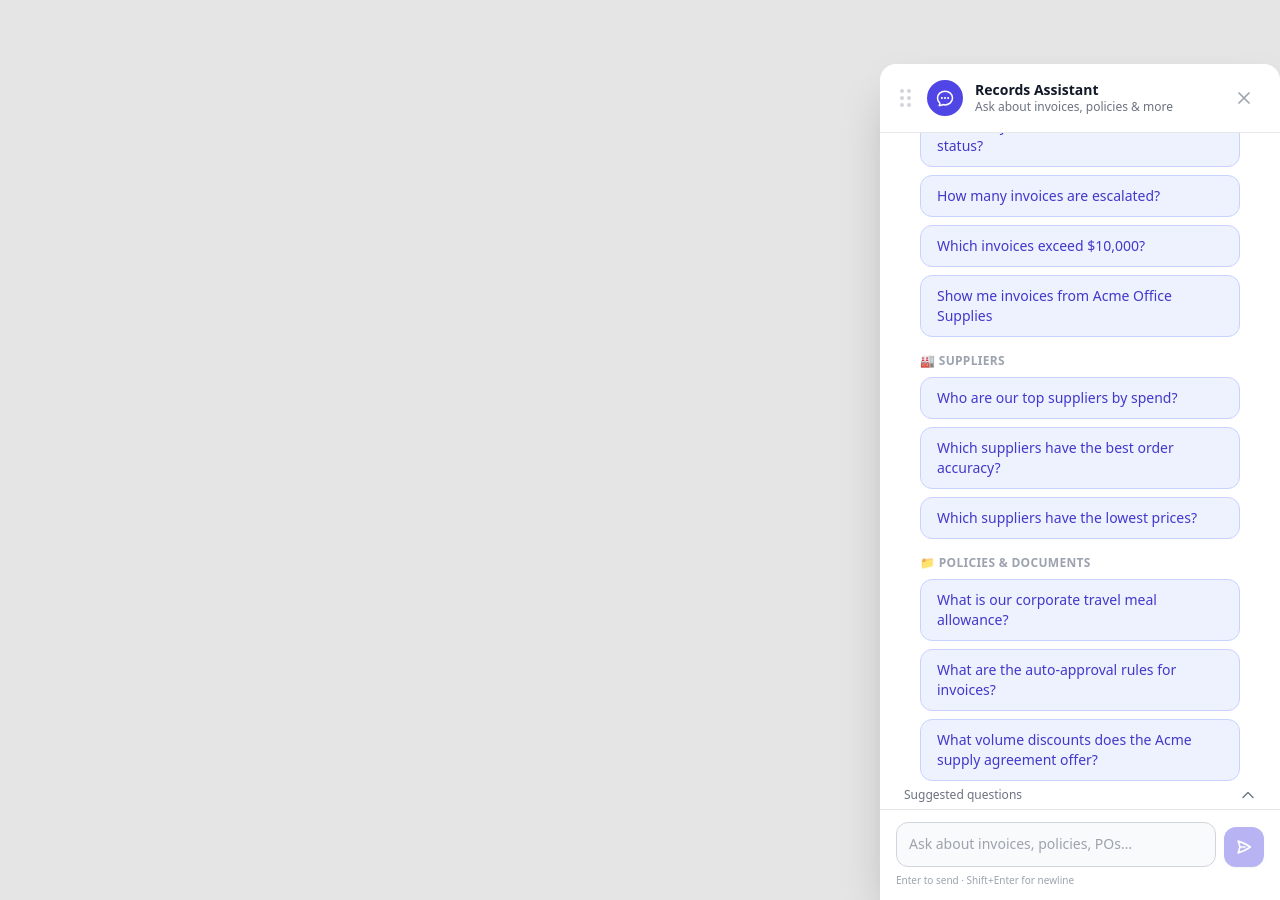
ChatDrawer › sends a question and renders the streamed assistant answer with a citation
(page scrolled)
Type "How many escalated?" into the text box with placeholder "Ask about invoices, policies, POs…" at [1056, 845], box left=896, top=822, right=1216, bottom=867
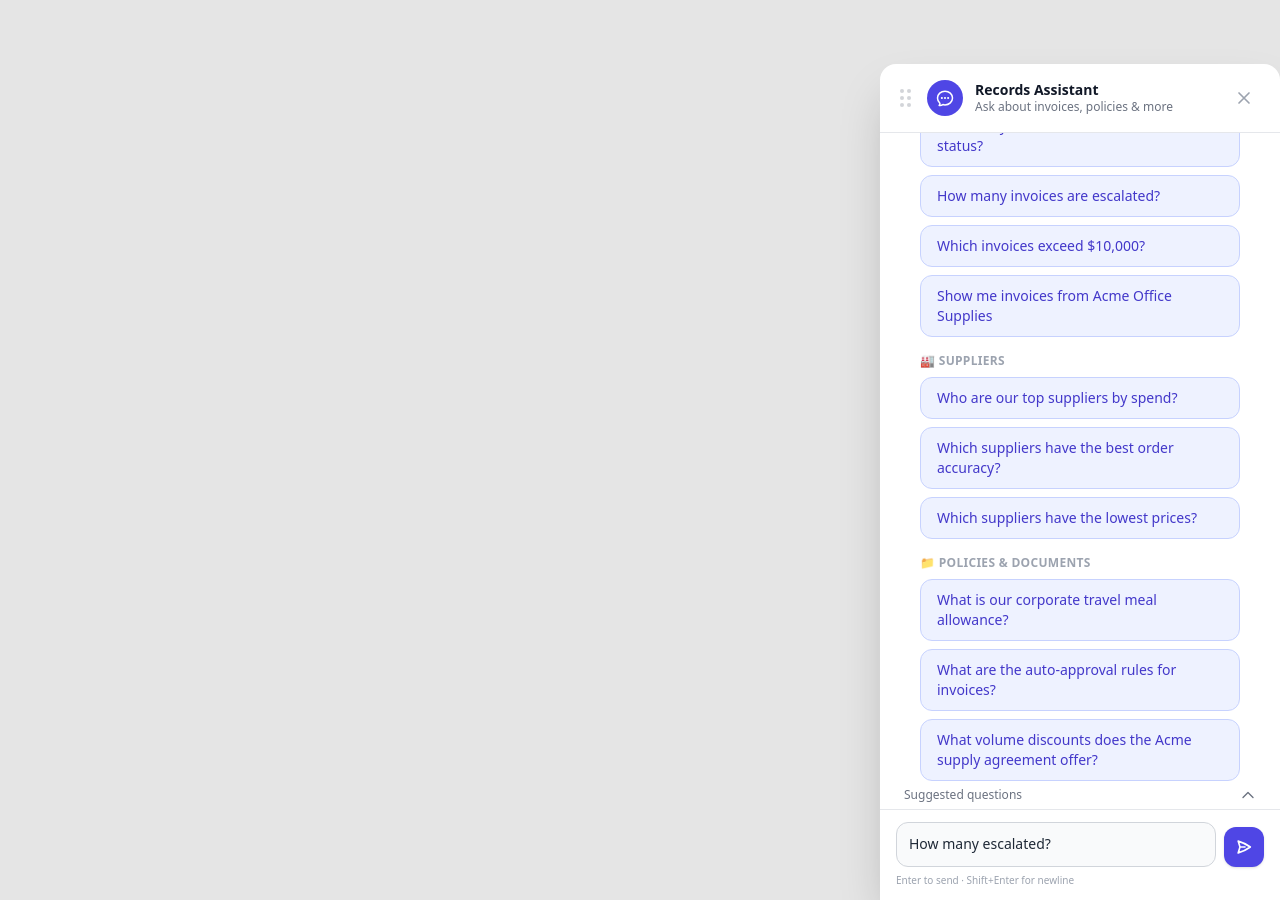
Click the button named "send" at [1244, 847], box left=1224, top=827, right=1264, bottom=867
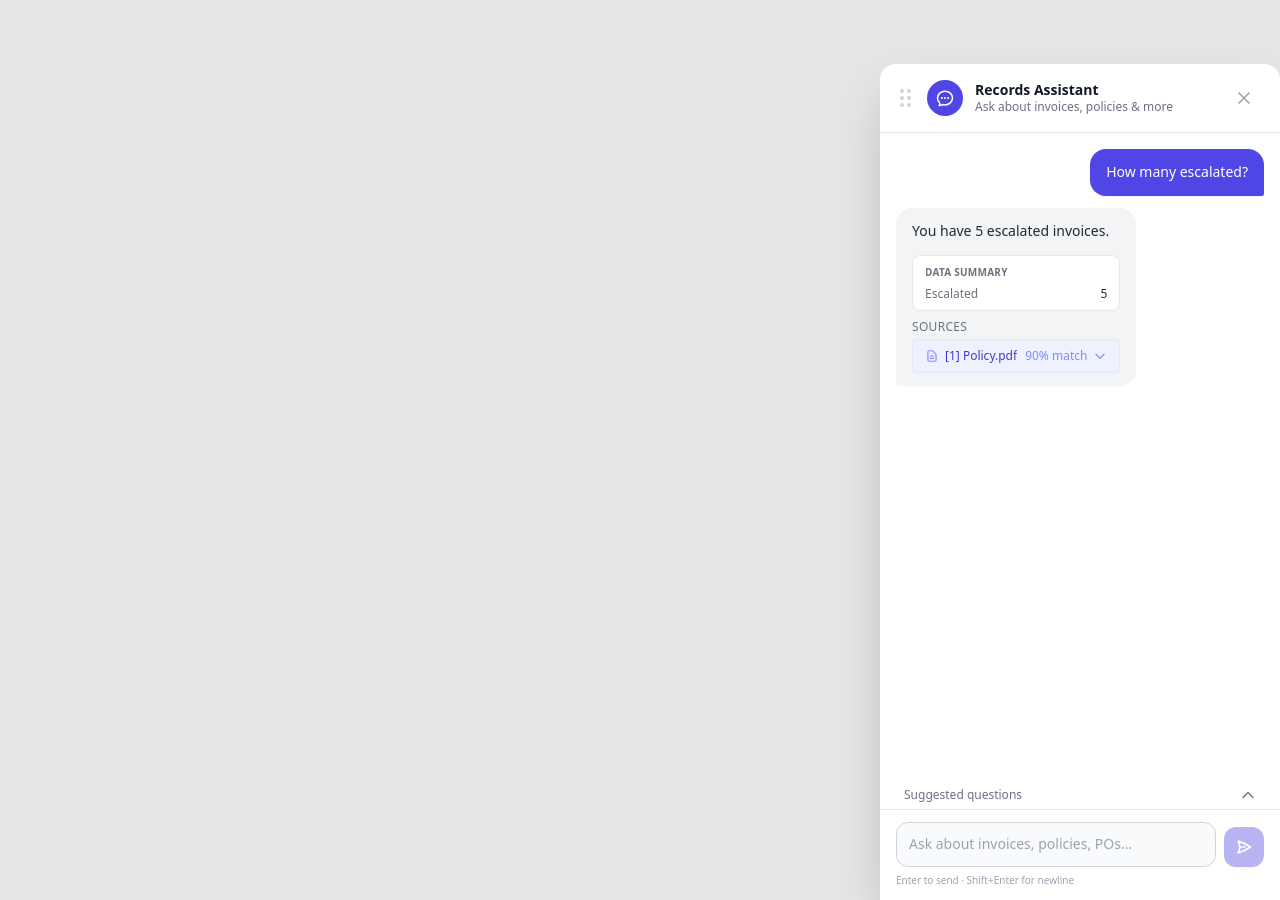
Check: the text "You have 5 escalated invoices." is shown, box left=912, top=220, right=1120, bottom=243
Check: the text "[1] Policy.pdf" is shown, box left=945, top=348, right=1017, bottom=364
